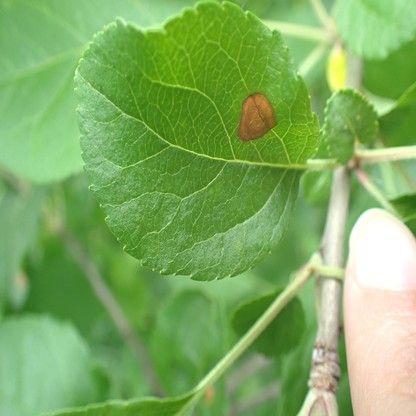frogeye_leaf_spot: (238, 92, 279, 139)
